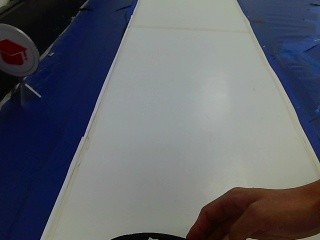school: (1, 22, 34, 77)
